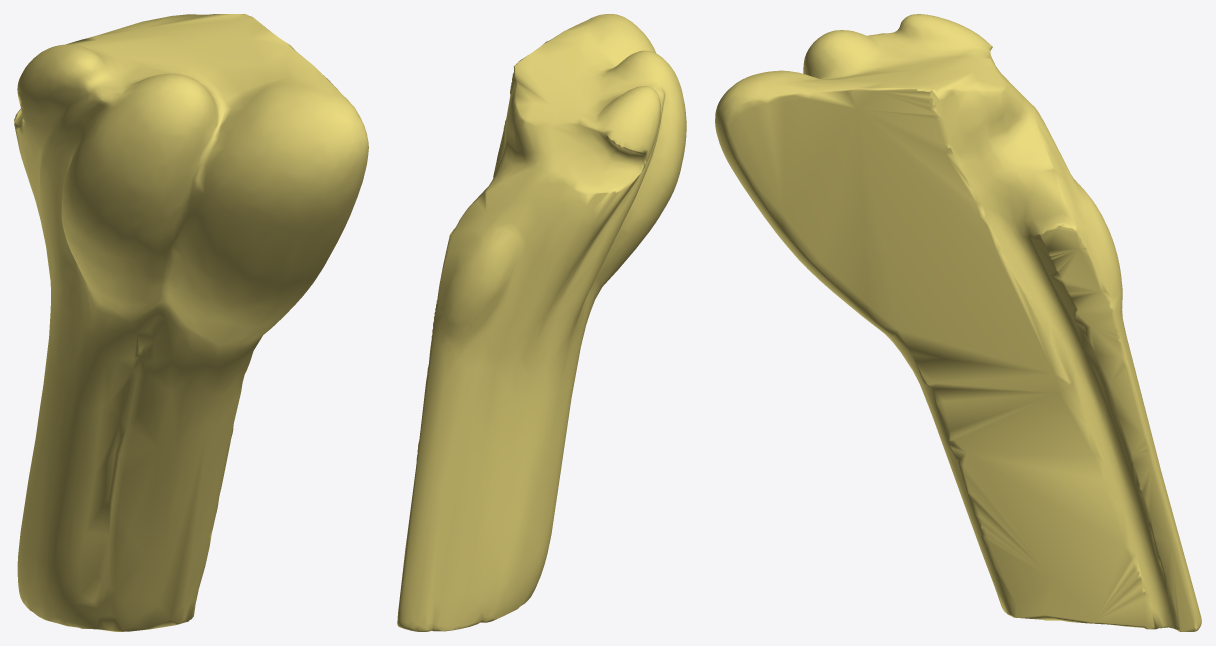
File: medulla-oblongata-r.glb
3 views of the same model, side by side, from view 1: azimuth 30°, elevation 25°; view 2: azimuth 150°, elevation 25°; view 3: azimuth 270°, elevation 25° (orthographic). The views are drawn at different scales.
Visible parts, largest first — view 1: Medulla oblongata.r; view 2: Medulla oblongata.r; view 3: Medulla oblongata.r.
Boxes of the visible parts, bbox=[...] form: Medulla oblongata.r: bbox=[14, 14, 368, 631]; Medulla oblongata.r: bbox=[397, 14, 686, 631]; Medulla oblongata.r: bbox=[715, 14, 1201, 631].
Size of the model in its own units: 0.013 by 0.0401 by 0.0322.
